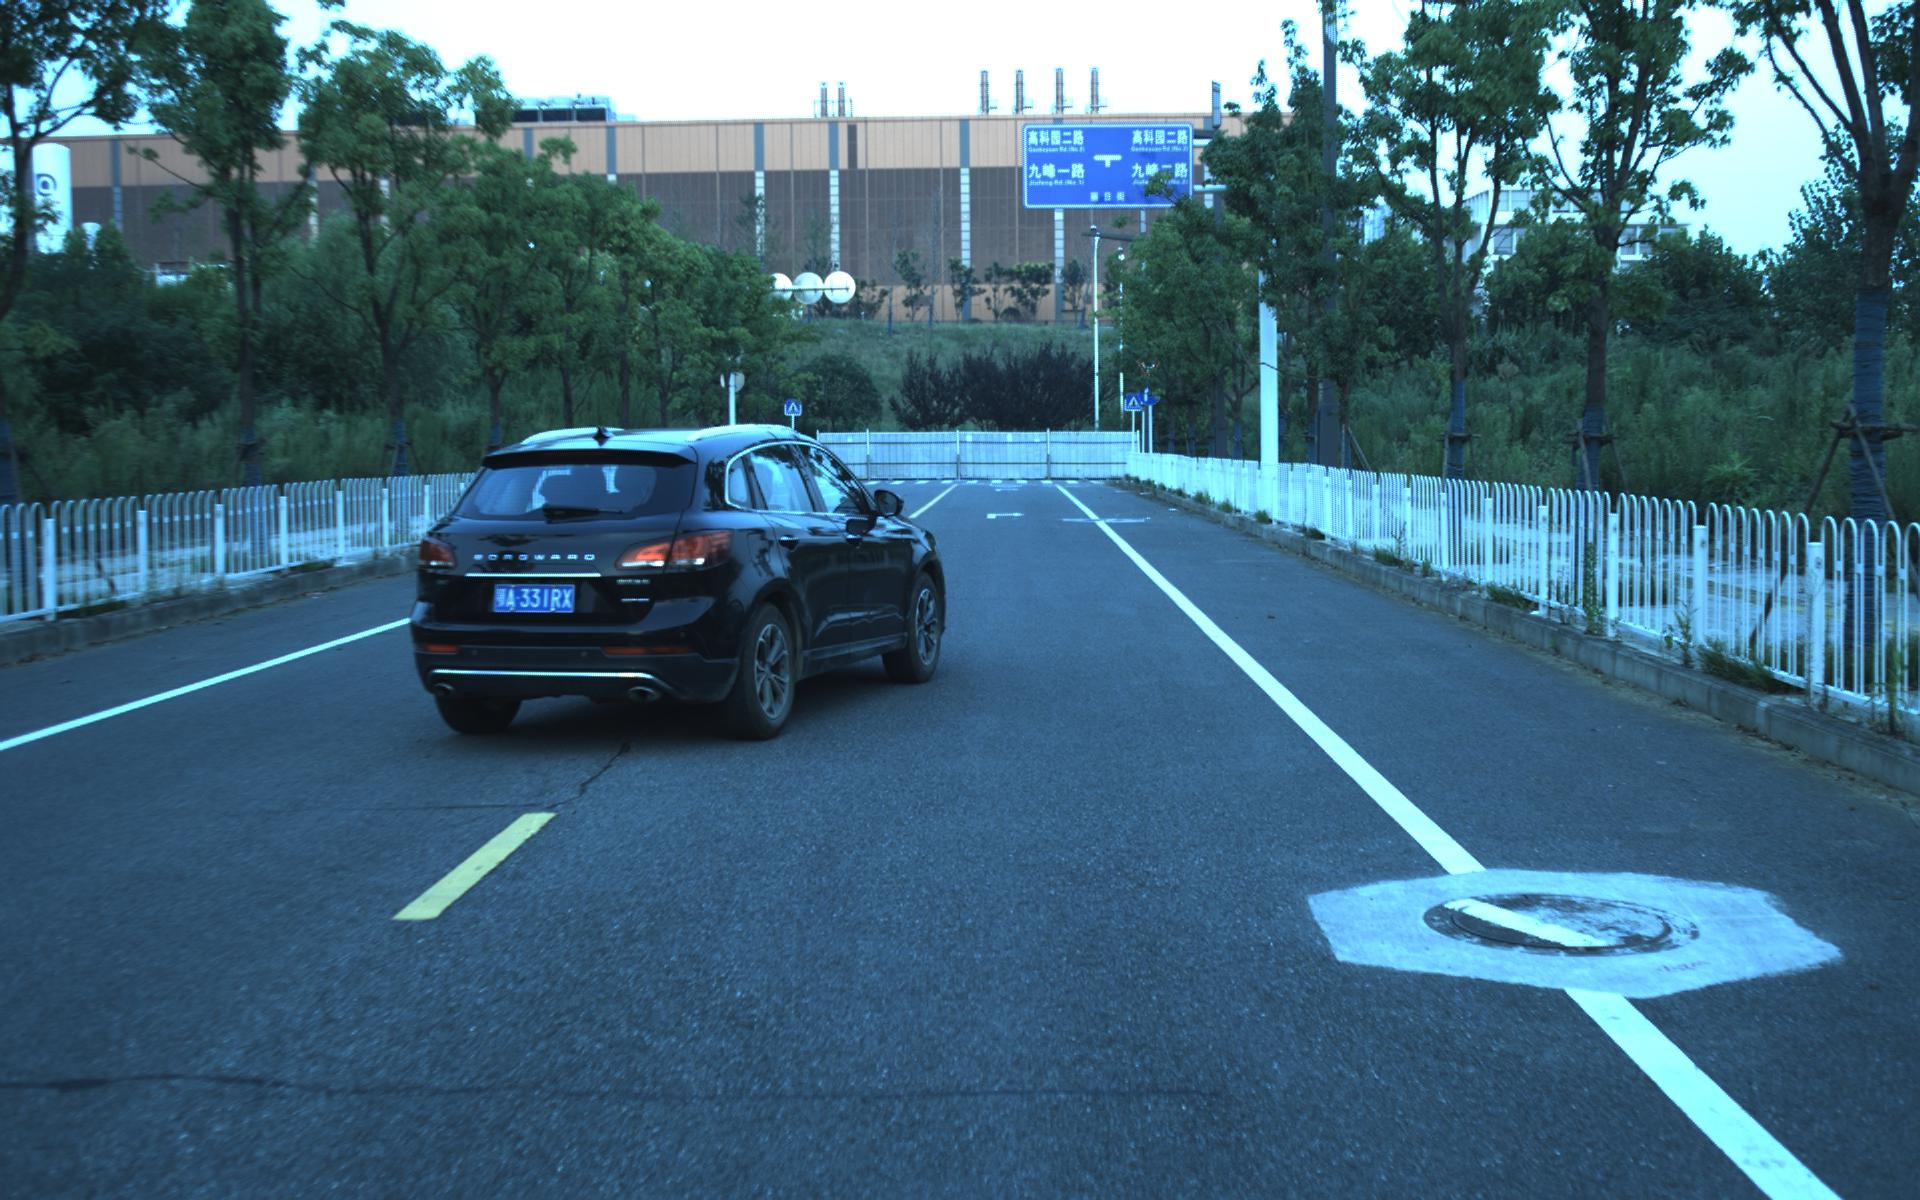Car: (386, 411, 951, 758)
